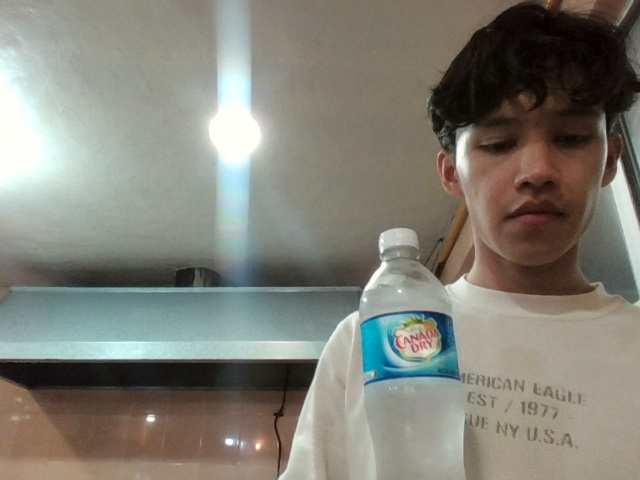botella: (306, 184, 511, 480)
